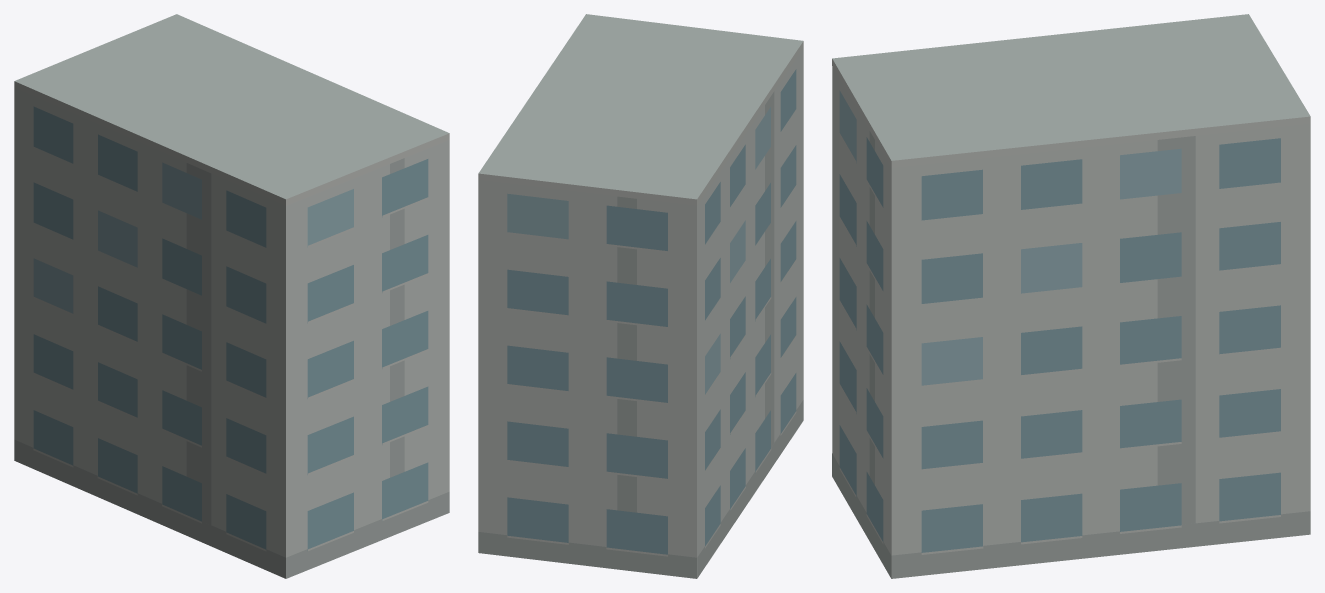
The model's file is survey-upis-32992191.glb.
3 views of the same model, side by side, from view 1: azimuth 30°, elevation 25°; view 2: azimuth 150°, elevation 25°; view 3: azimuth 270°, elevation 25° (orthographic). The views are drawn at different scales.
Visible parts, largest first — view 1: survey-upis-32992191.tmp; view 2: survey-upis-32992191.tmp; view 3: survey-upis-32992191.tmp.
Part boxes in pixels (x1,y1,x2,y2): survey-upis-32992191.tmp: (14,14,449,578); survey-upis-32992191.tmp: (478,14,803,578); survey-upis-32992191.tmp: (832,14,1310,578).
Bounding box in the file's own units: 10.59 × 14.05 × 14.59.
